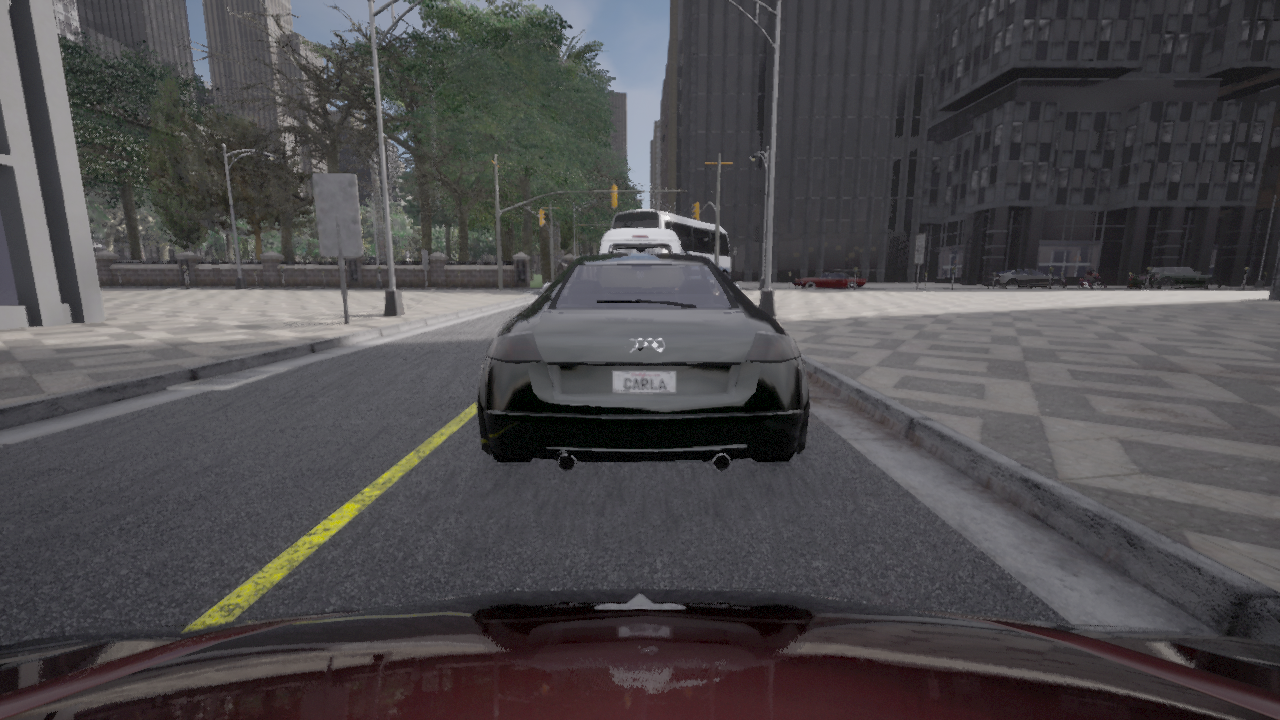cyclist: (0, 588, 1279, 719), (477, 253, 809, 471), (611, 210, 736, 278), (1128, 265, 1221, 289), (599, 228, 681, 253), (981, 268, 1066, 289), (792, 272, 865, 289), (1078, 279, 1105, 289)
